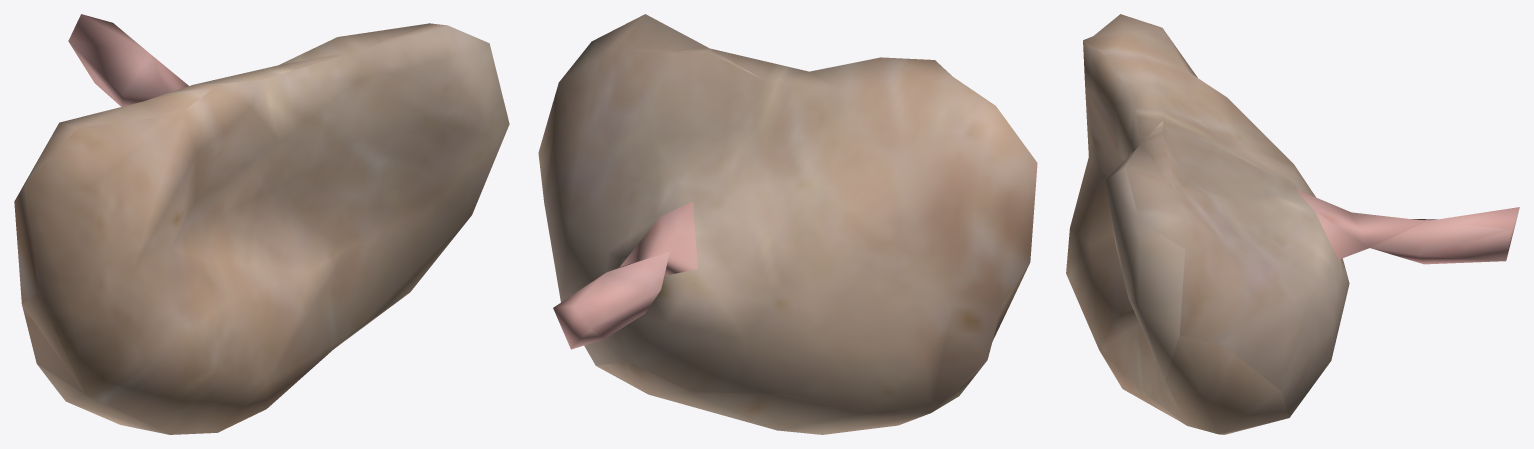
Rendered from TCA_Bladder.fbx.
The picture shows the model from 3 angles, left to right: view 1: azimuth 30°, elevation 25°; view 2: azimuth 150°, elevation 25°; view 3: azimuth 270°, elevation 25°; orthographic projection. The views are drawn at different scales.
Parts seen in each view (by area): view 1: Bladder; view 2: Bladder; view 3: Bladder.
Boxes of the visible parts, x1,y1,x2,y2 form: Bladder: (14,14,509,434); Bladder: (538,14,1037,434); Bladder: (1066,14,1519,434).
Bounding box in the file's own units: 0.1378 × 0.0933 × 0.1204.
